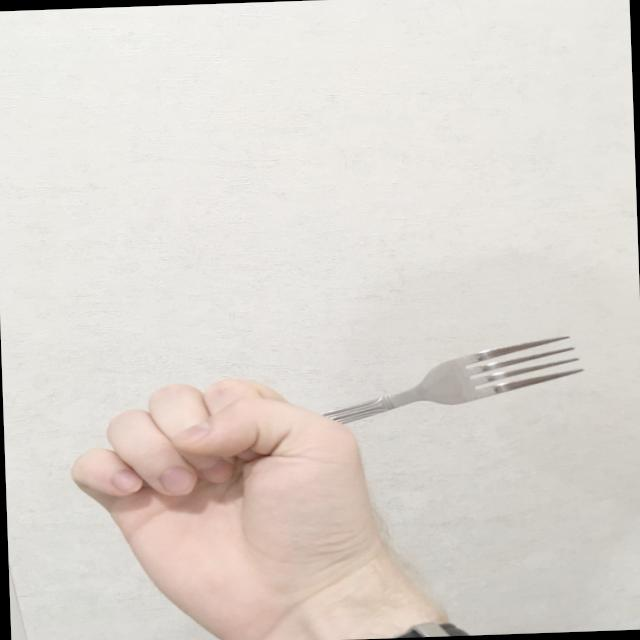fork: (242, 328, 586, 440)
